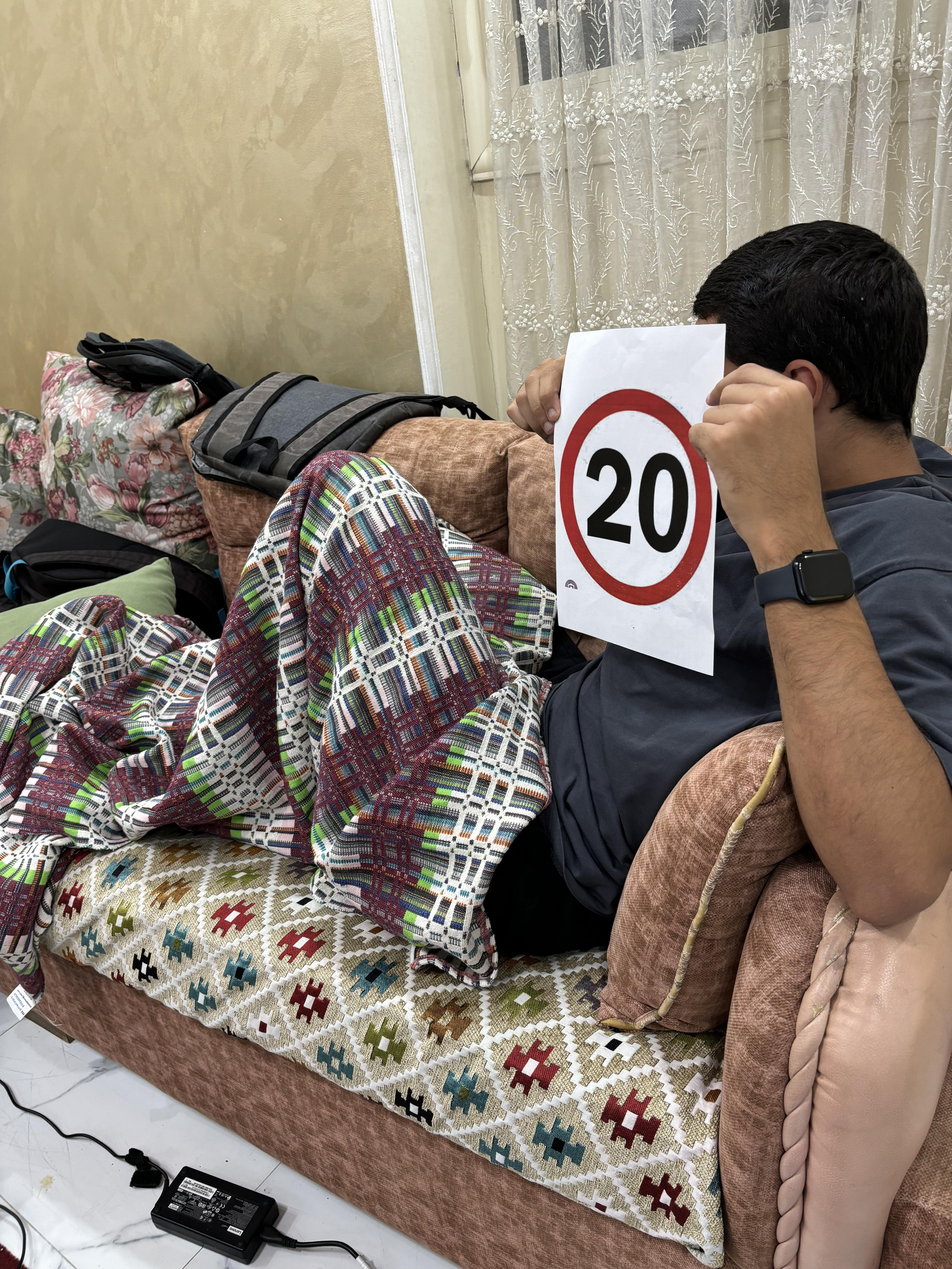20-Speed: (545, 387, 722, 604)
